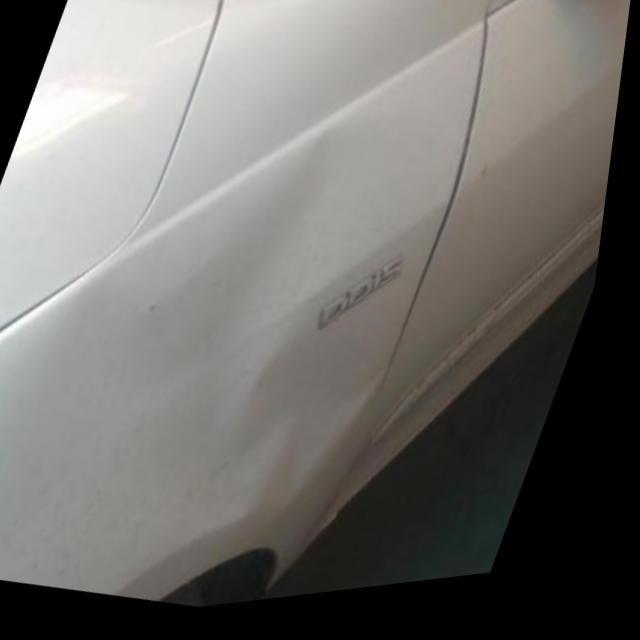dent: (138, 131, 405, 544)
